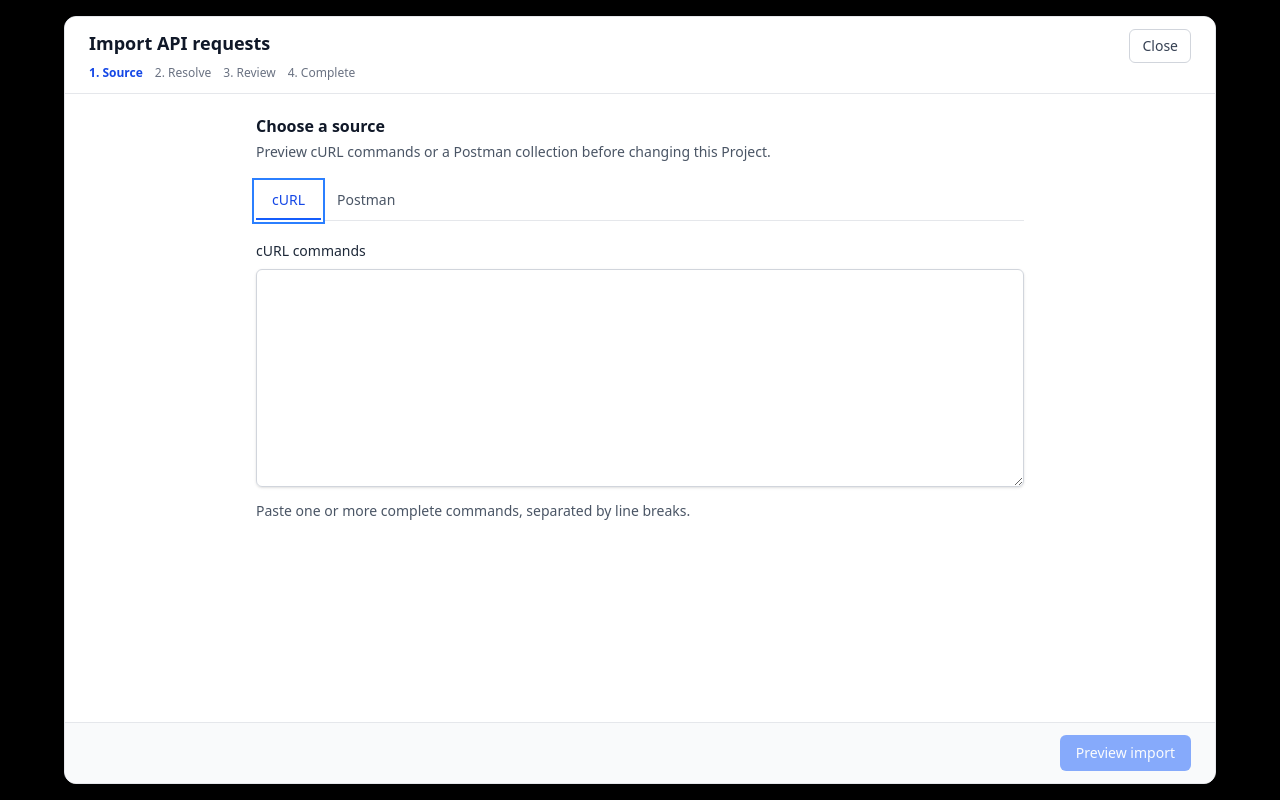
it: ImportWizard › keeps collection warnings visible when a preview has no request rows
The width and height of the screenshot is (1280, 800).
Type "curl -H 'Authorization: super-secret' https://api.example.test/users" into the text box labelled "cURL commands". click: (640, 378)
box: left=256, top=269, right=1024, bottom=487
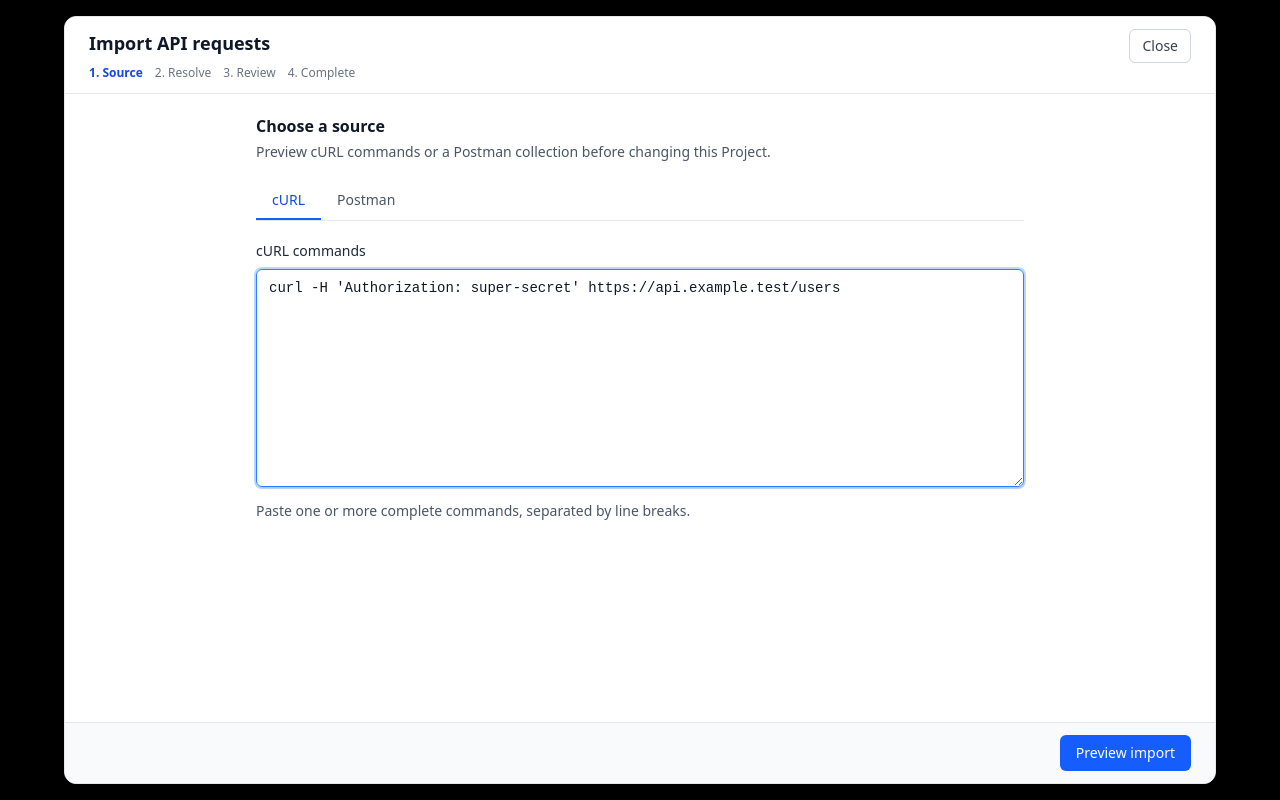
Click the button "Preview import". click: click(1125, 753)
box: left=1060, top=735, right=1191, bottom=771
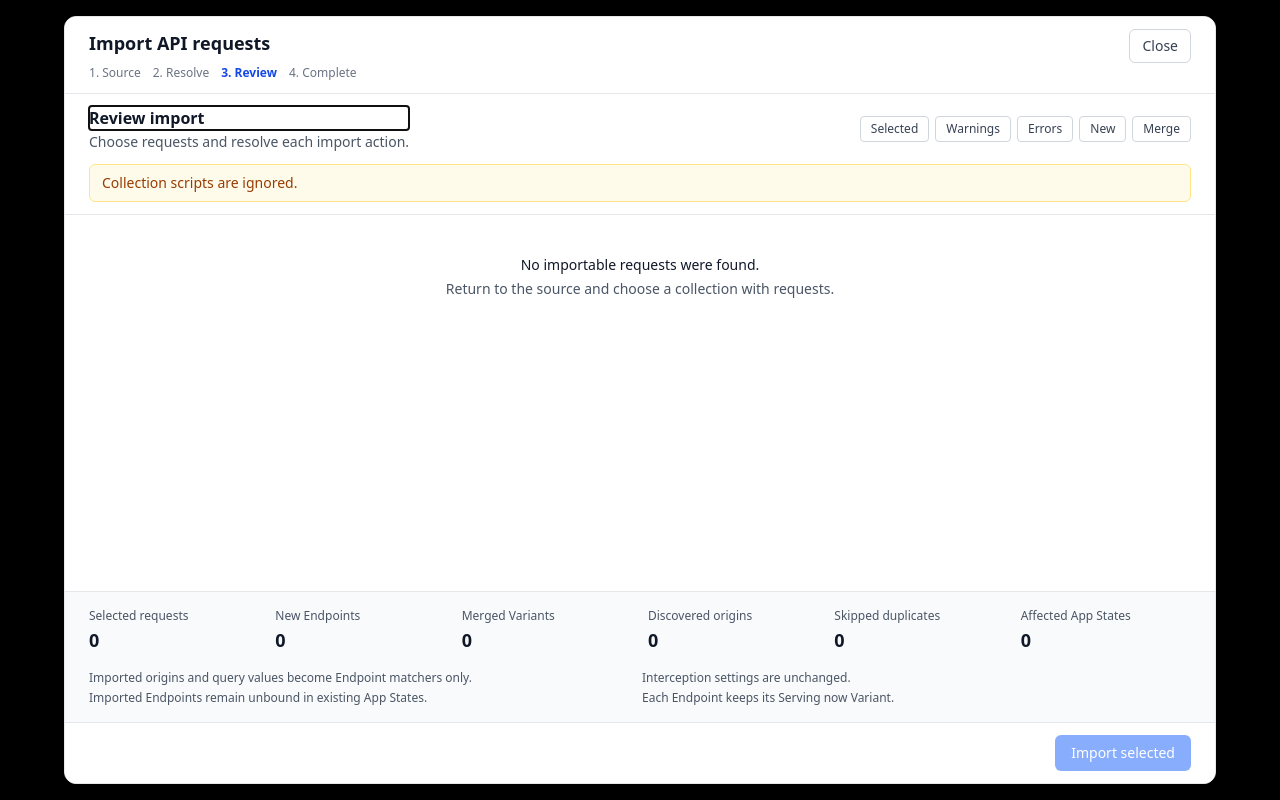
Now the heading "Review import" is shown, box left=89, top=107, right=204, bottom=129
Now the text "Collection scripts are ignored." is shown, box left=102, top=173, right=297, bottom=192
Now the text "No importable requests were found." is shown, box left=521, top=255, right=759, bottom=274
